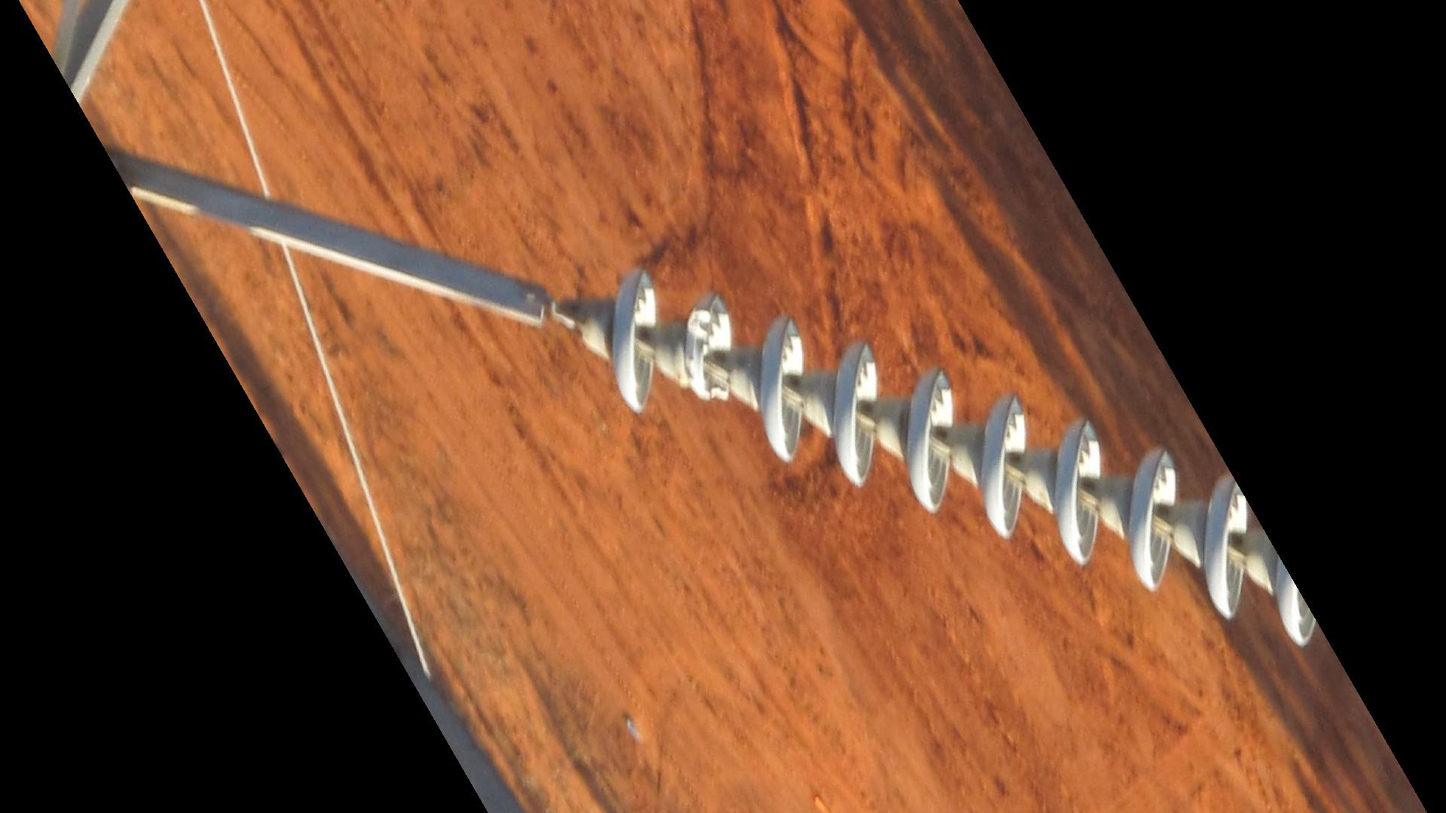insulator: (602, 265, 1328, 658)
insulator_breakage: (675, 303, 734, 409)
